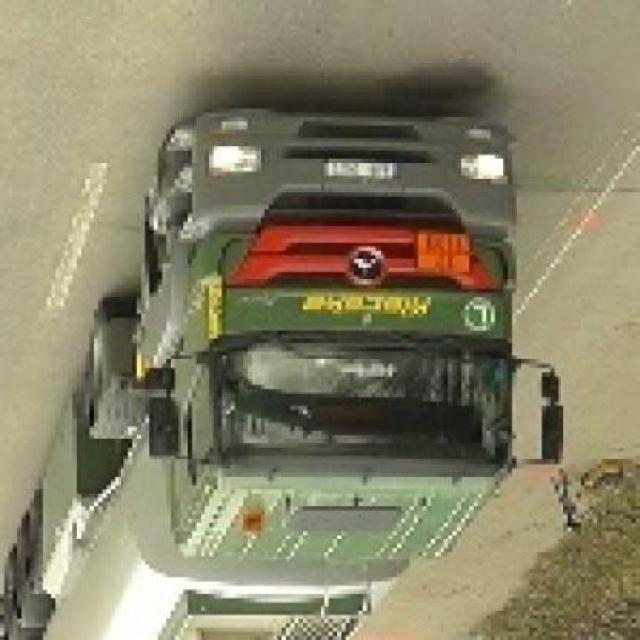truck: (1, 110, 564, 640)
